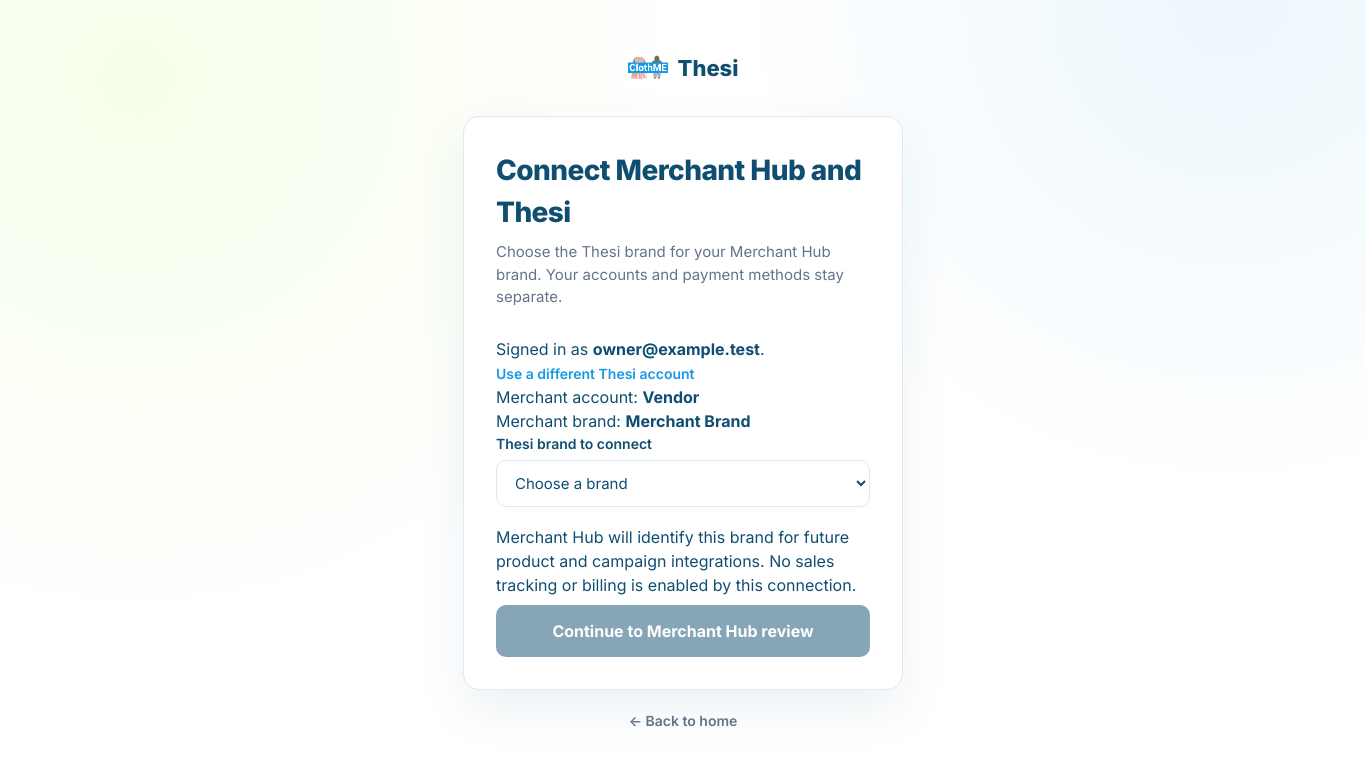
Test case: Thesi side connection consent › requires an explicit brand choice before approval and shows both sides
The image size is (1366, 768).
Check: the text "Merchant Brand" is shown, box x1=626 y1=410 x2=751 y2=430
Check: the button "Continue to Merchant Hub review" is disabled, box x1=496 y1=604 x2=870 y2=656
Select "Thesi Brand" in the dropdown labelled "Thesi brand to connect" at {"x": 683, "y": 483}, box x1=496 y1=460 x2=870 y2=506
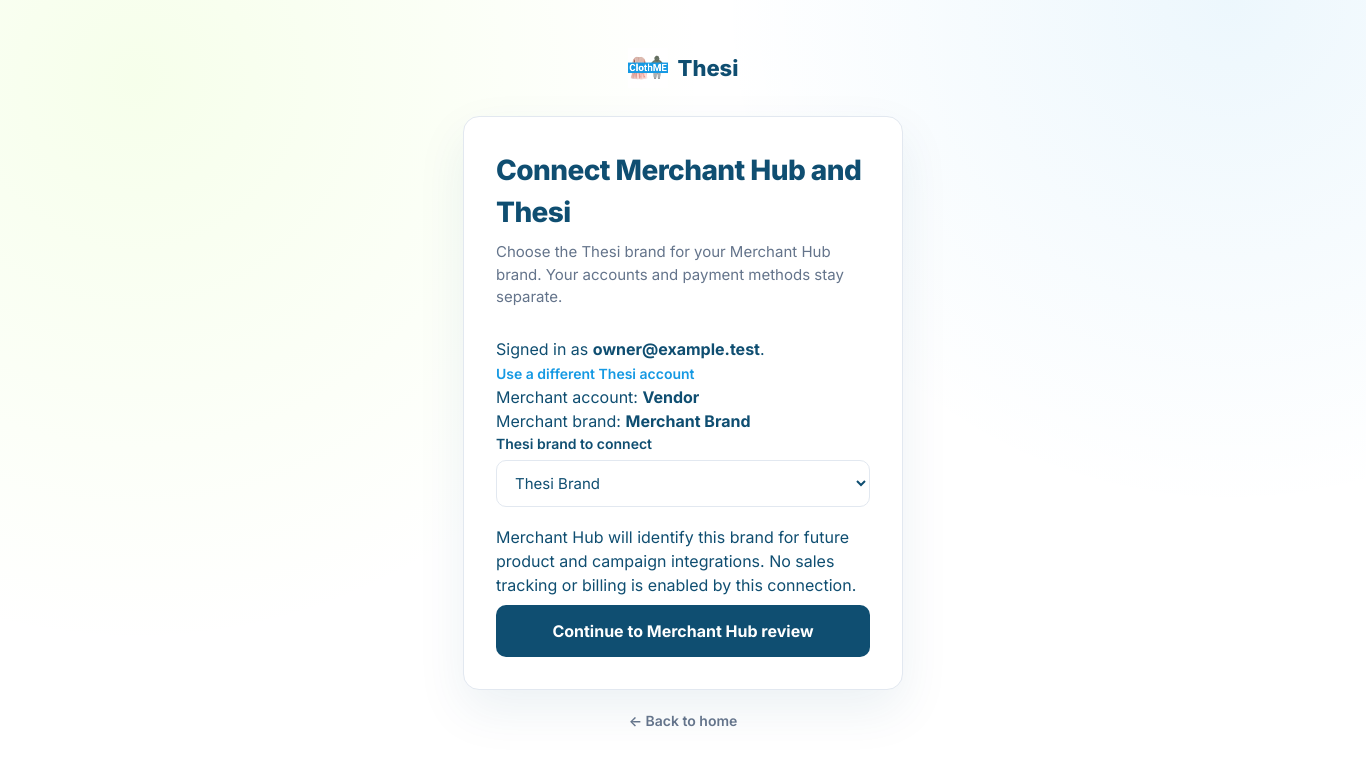
Check: the button "Continue to Merchant Hub review" is enabled
Click the button "Continue to Merchant Hub review" at {"x": 683, "y": 630}, box x1=496 y1=604 x2=870 y2=656
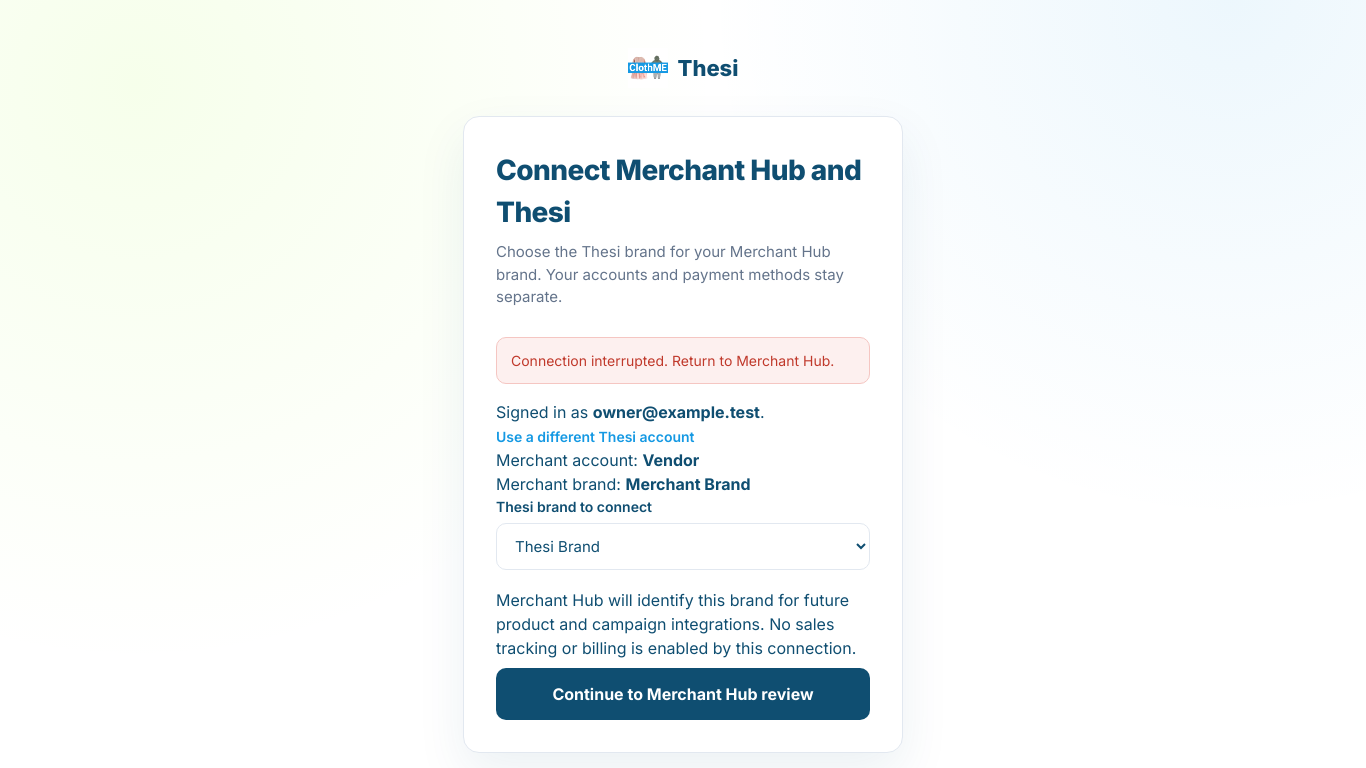
Check: the message shows "Connection interrupted", box x1=511 y1=352 x2=834 y2=368
